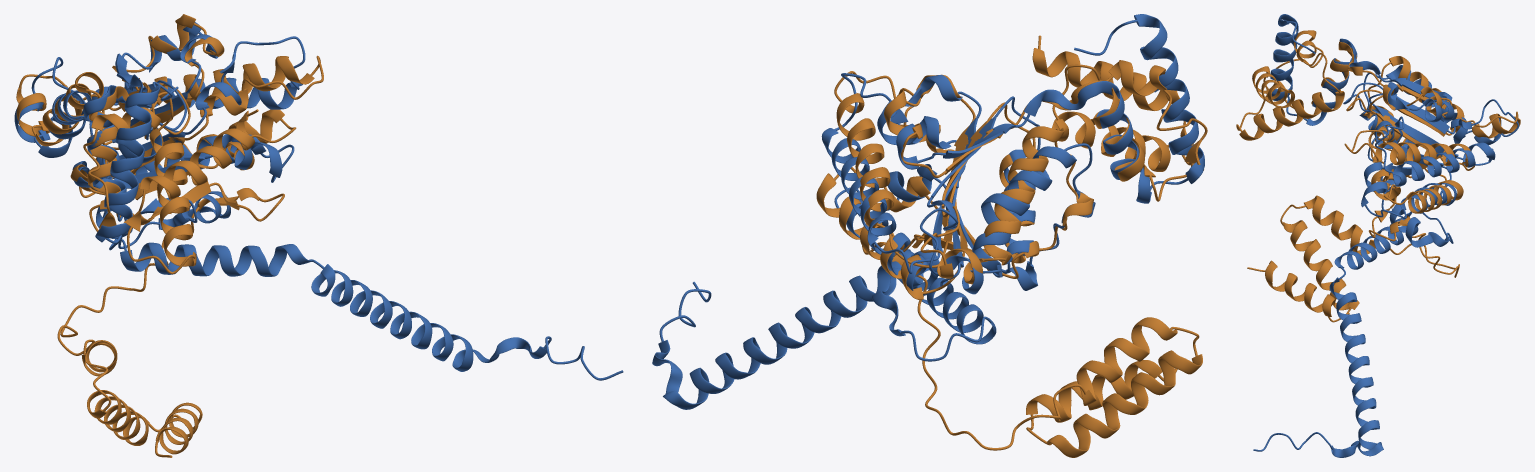
The picture shows the model from 3 angles, left to right: view 1: azimuth 30°, elevation 25°; view 2: azimuth 150°, elevation 25°; view 3: azimuth 270°, elevation 25°; orthographic projection. The views are drawn at different scales.
Bounding box in the file's own units: 94.87 × 74.65 × 63.5.
